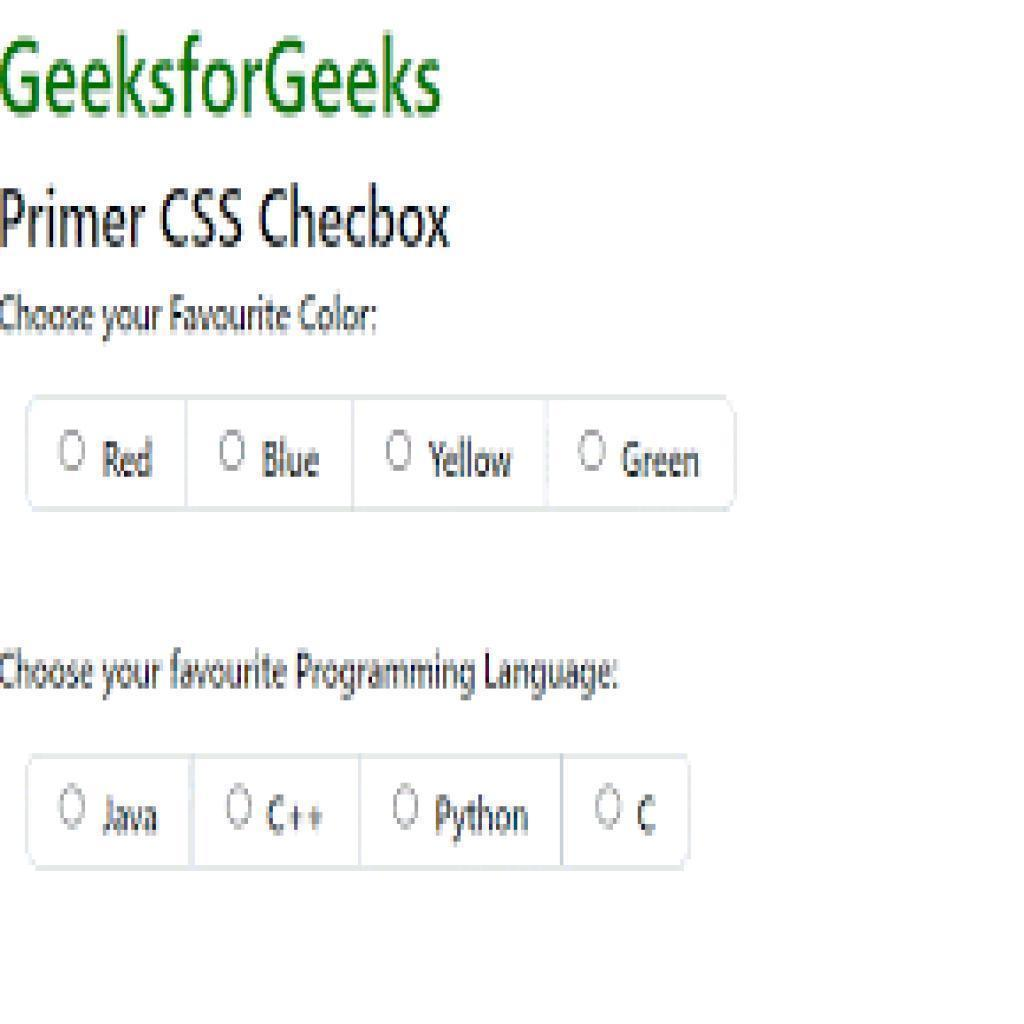label: (431, 788, 530, 849), (425, 433, 515, 484), (618, 433, 704, 484), (259, 431, 321, 484), (98, 791, 162, 842), (265, 790, 329, 841), (97, 431, 156, 482), (638, 791, 660, 841)
radio: (54, 780, 90, 833), (222, 780, 255, 836), (390, 781, 423, 833), (55, 424, 86, 478), (593, 780, 625, 832), (577, 426, 610, 476), (385, 427, 414, 477), (218, 427, 245, 472)
